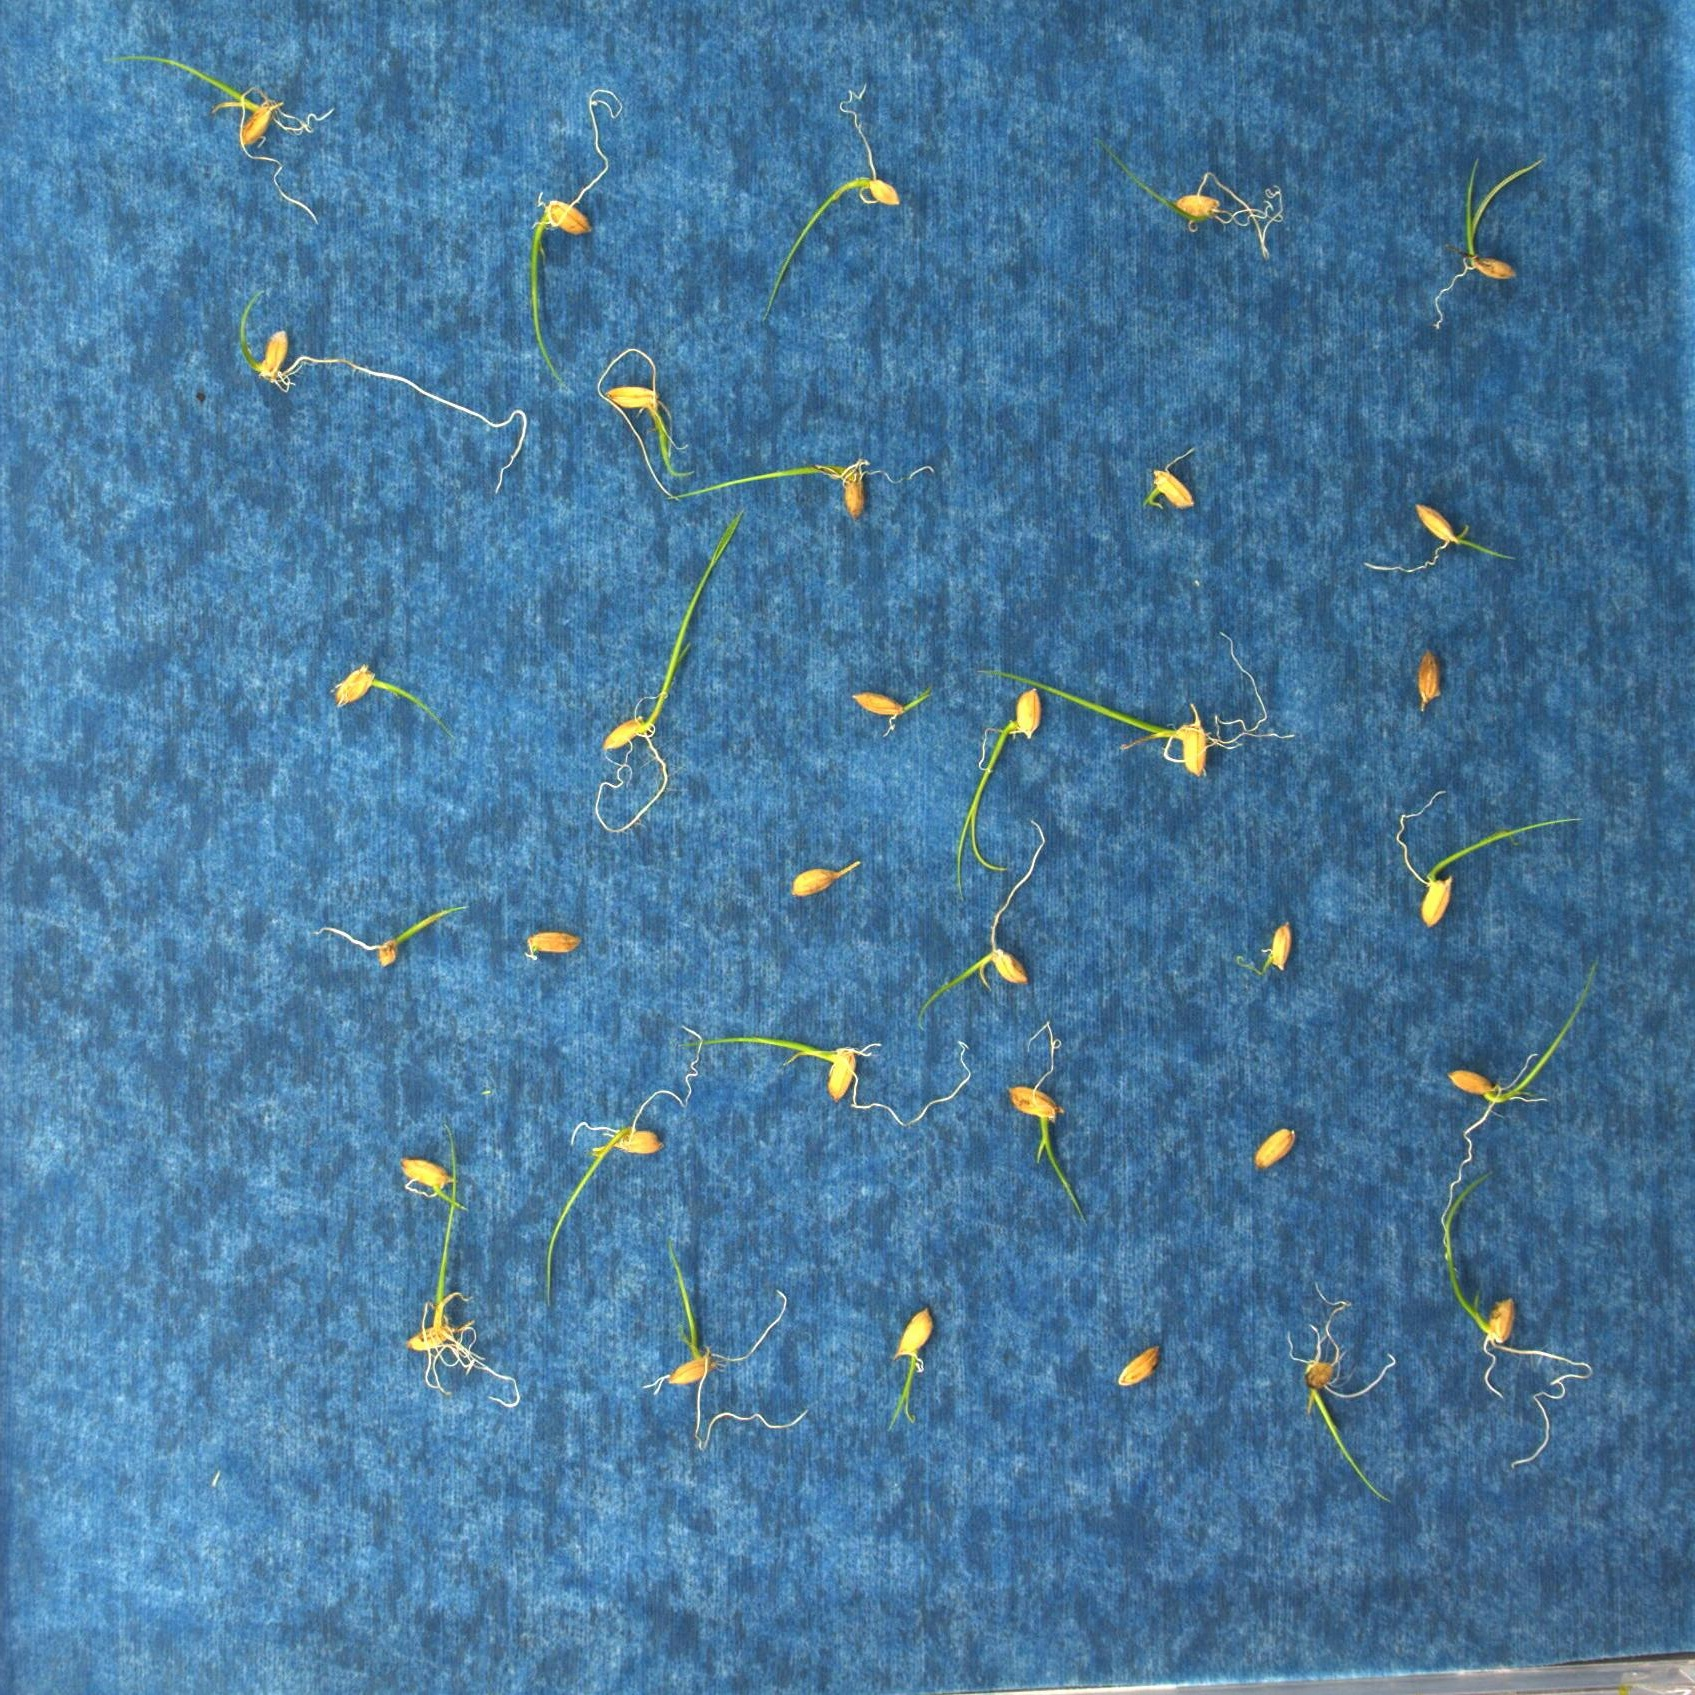not sprout: (1138, 432, 1215, 532), (511, 920, 593, 979), (778, 854, 869, 900), (1406, 641, 1453, 712), (1260, 914, 1305, 981), (1240, 1125, 1304, 1172), (1104, 1336, 1156, 1391)
sprout: (230, 279, 539, 497), (1416, 1172, 1613, 1481), (1049, 98, 1281, 349), (542, 1014, 717, 1327), (590, 511, 747, 849), (976, 640, 1315, 789), (500, 29, 632, 390), (85, 50, 345, 231), (1430, 947, 1593, 1220), (615, 1253, 823, 1461), (900, 806, 1083, 1024), (1391, 771, 1617, 934), (680, 1023, 1009, 1135), (761, 61, 906, 309), (365, 1127, 490, 1405), (1377, 154, 1546, 352), (1277, 1260, 1406, 1501), (941, 677, 1059, 905), (675, 438, 938, 534), (1000, 1010, 1090, 1212), (587, 338, 692, 497), (1358, 489, 1530, 577), (306, 640, 456, 730), (296, 903, 456, 983), (872, 1301, 945, 1444), (830, 671, 938, 740), (386, 1147, 469, 1232)
